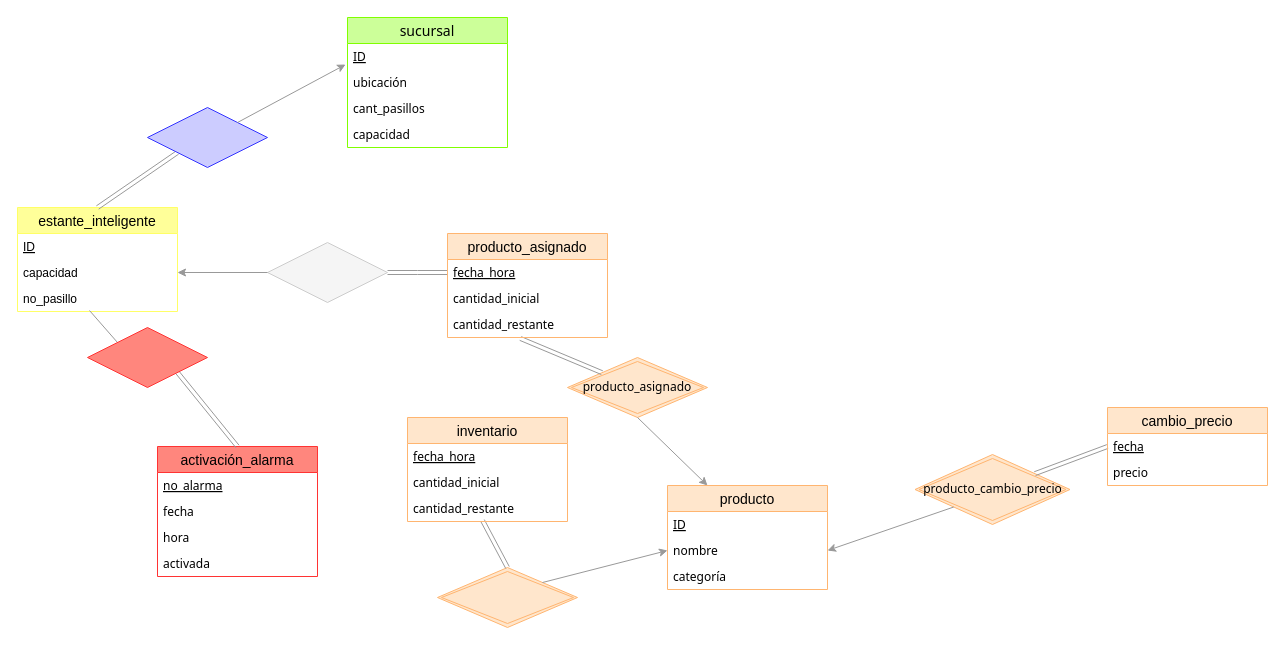
This 1285x645 diagram has some shape labels left out. The centre of each missing label's shape, as x and y in pixels:
estante_alarma: the point at 147,357
estante_producto: the point at 327,272
estante_sucursal: the point at 207,137
producto_inventario: the point at 507,597
